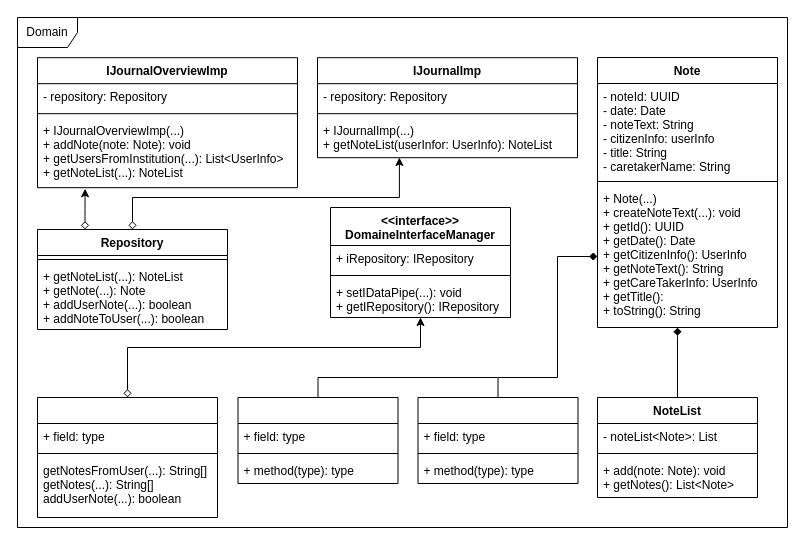
This 805x545 diagram has some shape labels left out. Each missing label, with the box of its shape:
FooterNote: (237, 396, 398, 484)
HeaderNote: (417, 396, 578, 484)
IRepository: (36, 396, 218, 518)
